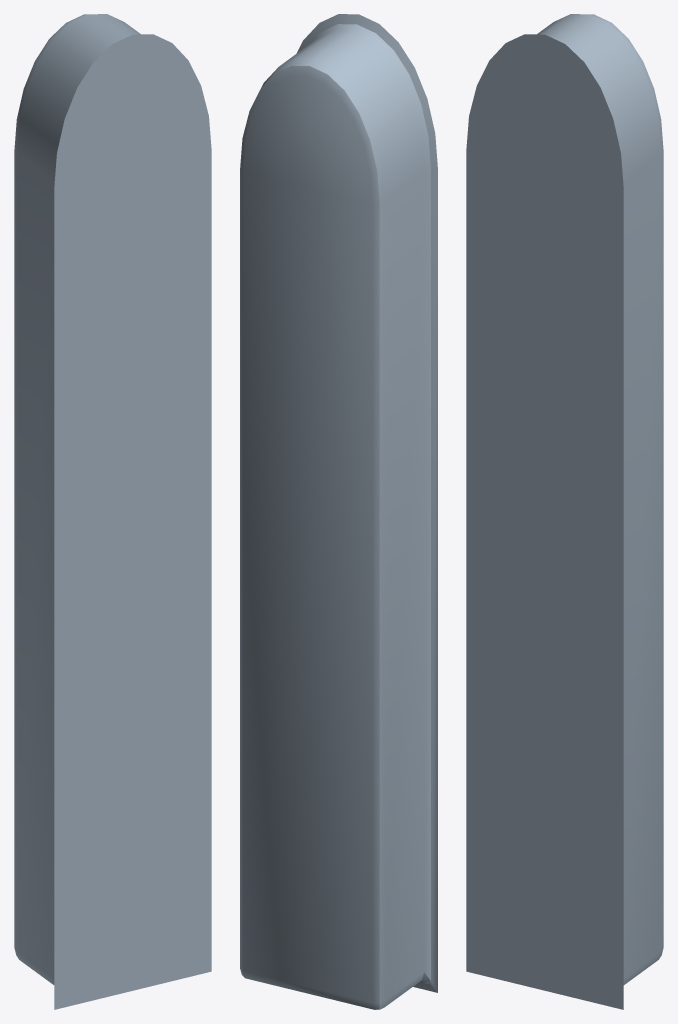
File: chainsaw.obj
3 views of the same model, side by side, from view 1: azimuth 30°, elevation 25°; view 2: azimuth 150°, elevation 25°; view 3: azimuth 330°, elevation 25° (orthographic).
Parts seen in each view (by area): view 1: ChainsawBody; view 2: ChainsawBody; view 3: ChainsawBody.
Boxes of the visible parts, <box> form: ChainsawBody: <box>14,14,211,1009</box>; ChainsawBody: <box>240,14,437,1009</box>; ChainsawBody: <box>466,14,663,1009</box>.
Bounding box in the file's own units: 0.4388 × 2.55 × 0.2463.
Materials: 1 (1 with a texture image).
